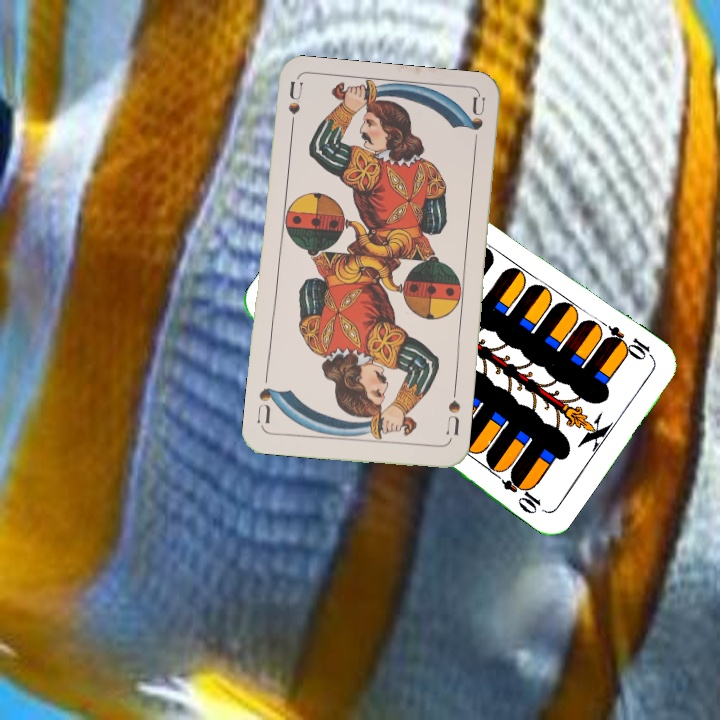E10: (601, 322, 657, 363)
SU: (284, 79, 307, 139), (442, 385, 463, 438)
